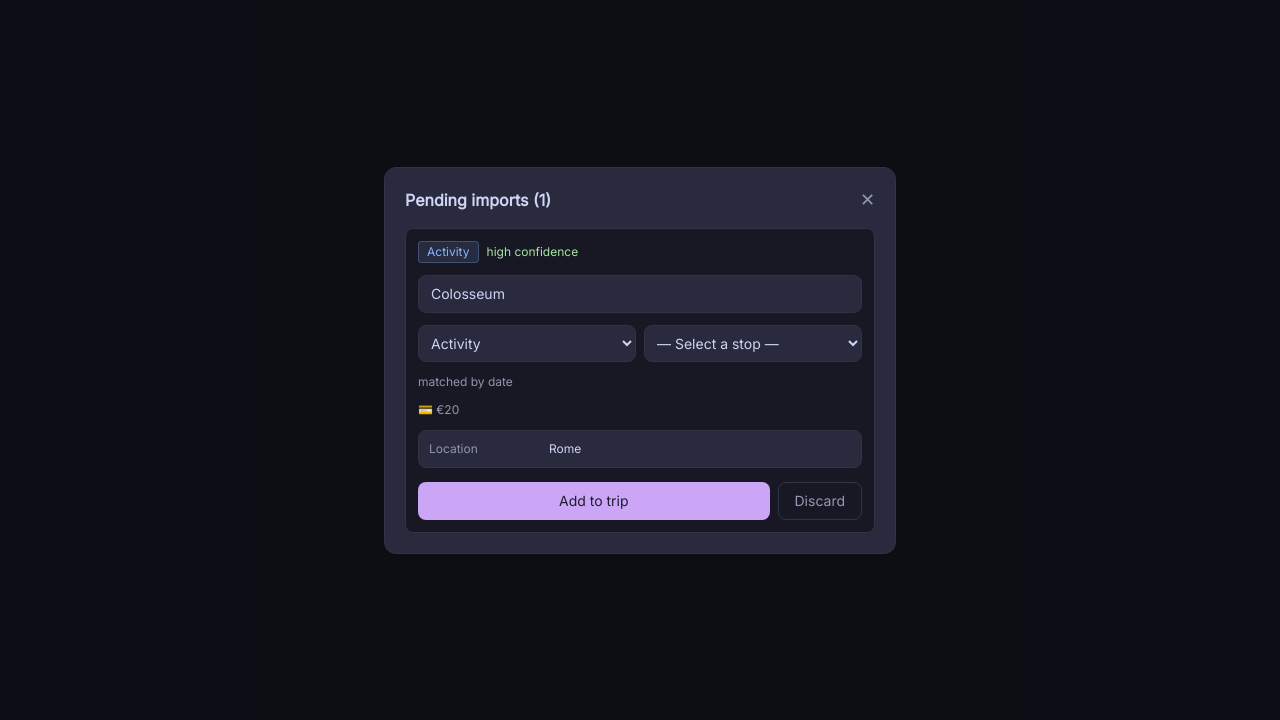
Test: PendingReview › blocks apply when no stop is selected
This screenshot has width=1280, height=720.
Check: the field showing "Colosseum" is shown, box [418,274,862,312]
Click the button "Add to trip": coordinates (594, 500) [418,482,770,520]
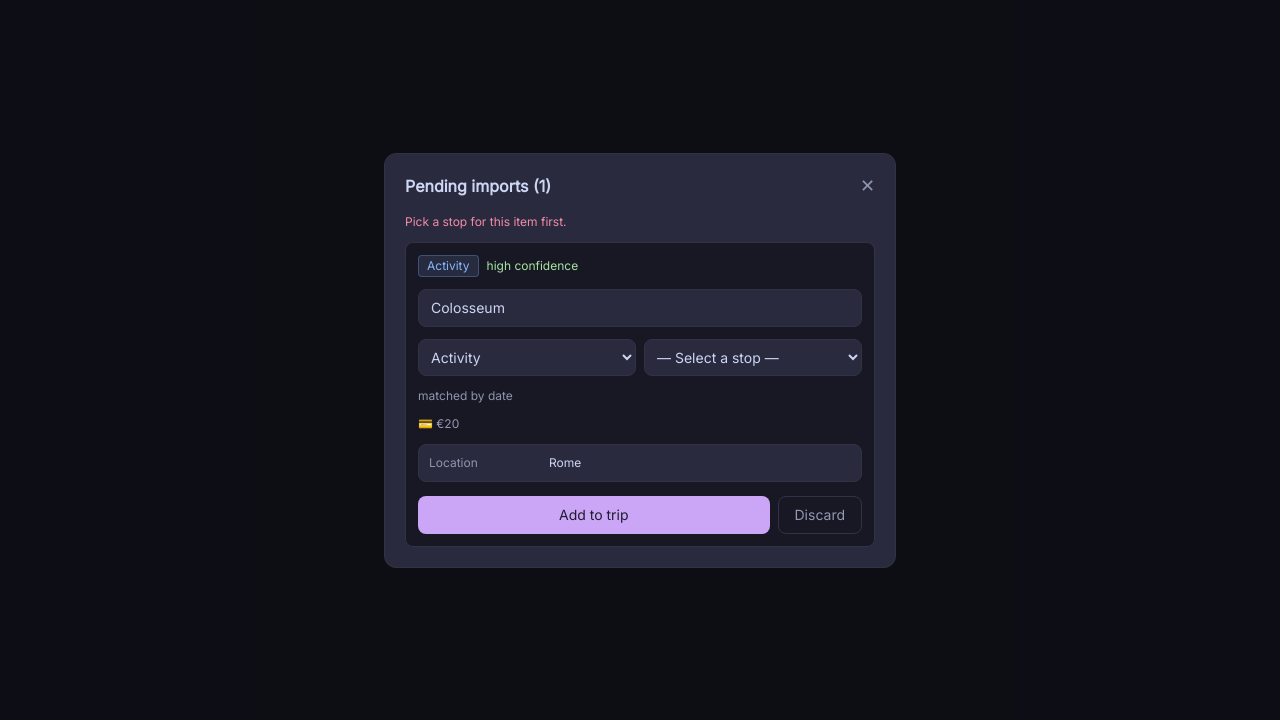
Check: the text "Pick a stop for this item first." is shown, box [405,214,567,228]
